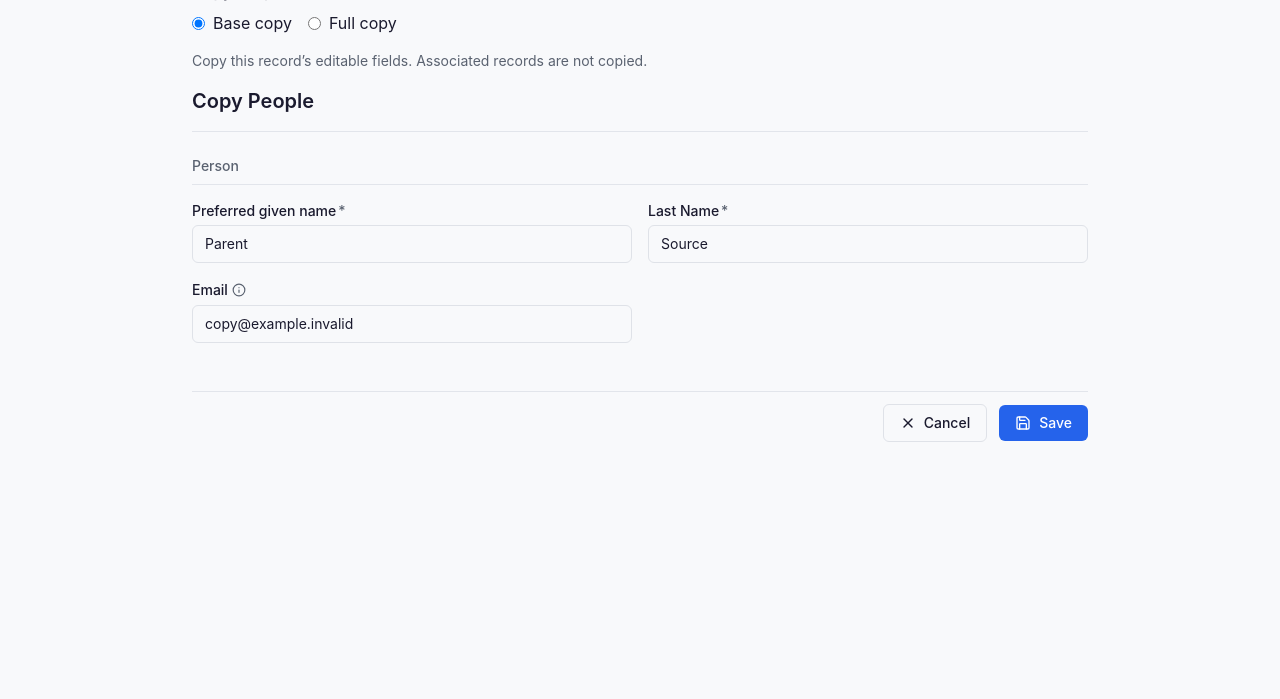
it: Full copy failures stay visible and cannot save a base-only fallback › does not announce success when a saved response omits a nonempty requested group
Expected: the field labelled "Preferred given name*" is shown, [192, 225, 632, 263]
Click the radio button labelled "Full copy" at (314, 23), box [308, 16, 321, 30]
(page scrolled)
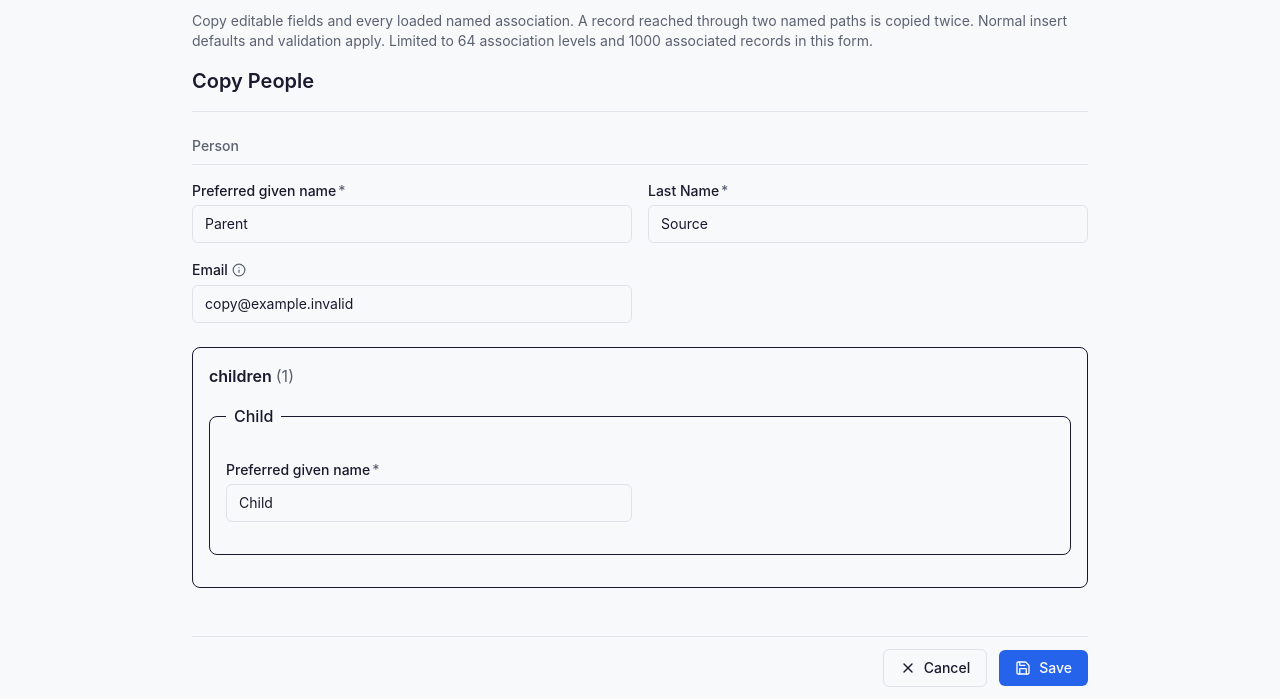
Click the button "Save" at (1044, 668), box [999, 650, 1088, 686]
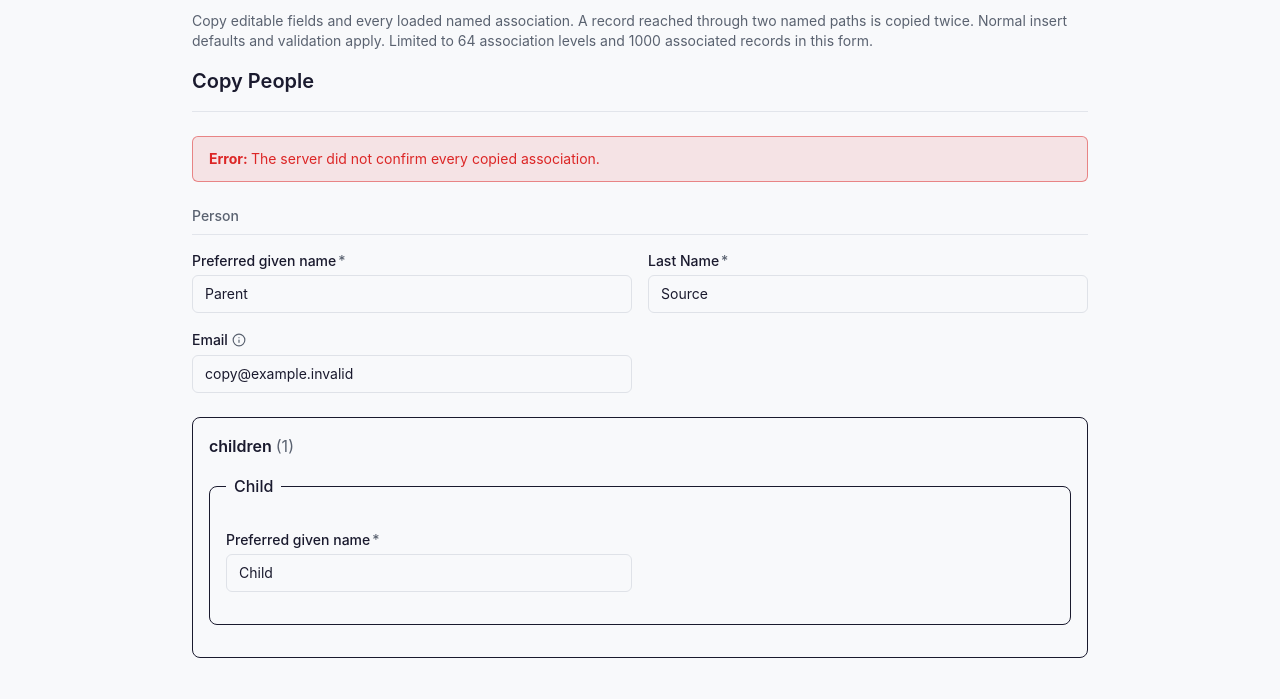
Now the message shows "did not confirm every copied association", box [251, 150, 600, 167]
